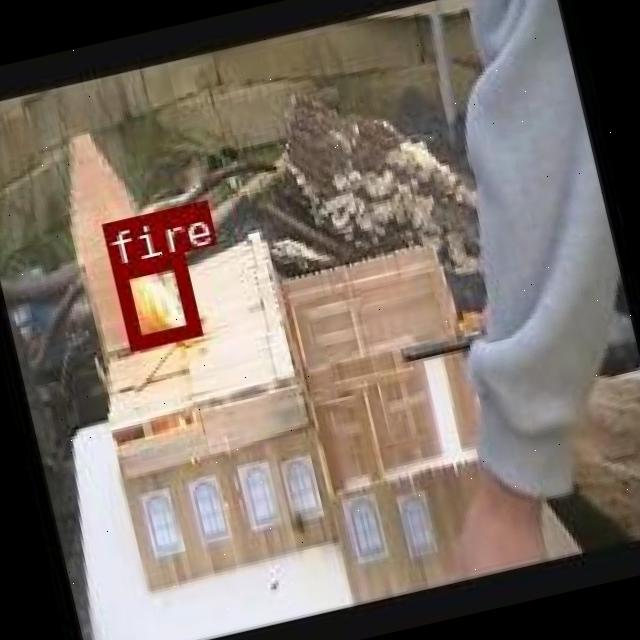fire: (111, 252, 199, 350)
